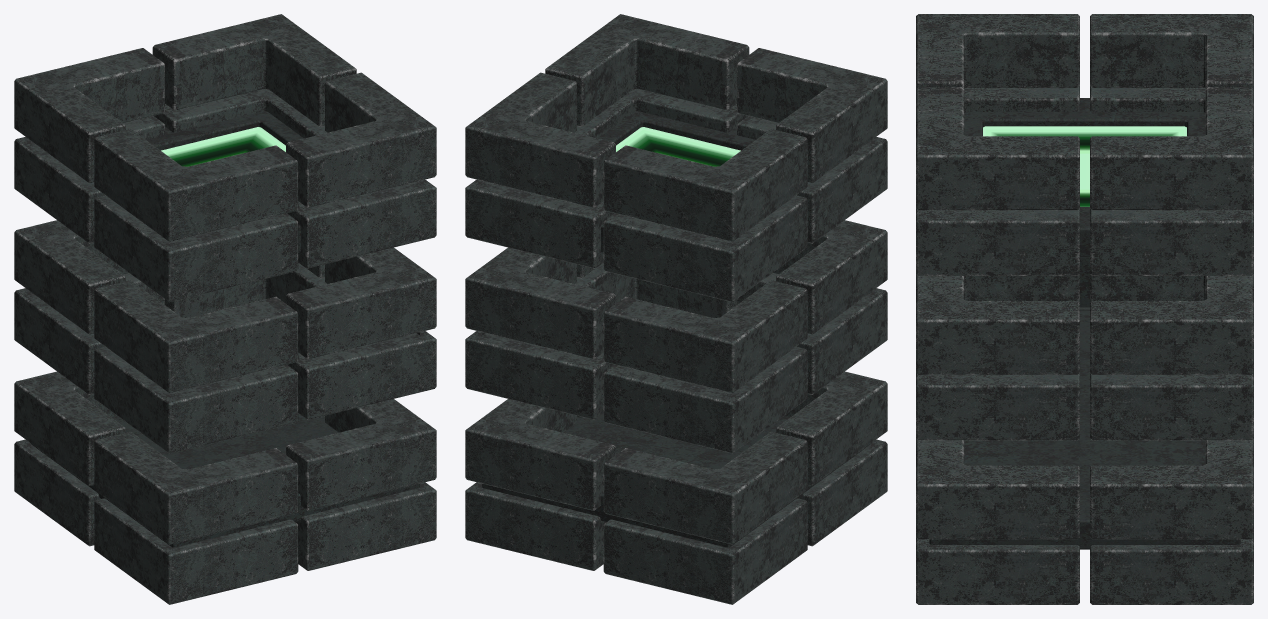
Rendered from ParticleTransmitter.fbx.
3 renders of one model, left to right at view 1: azimuth 30°, elevation 25°; view 2: azimuth 150°, elevation 25°; view 3: azimuth 270°, elevation 25°, orthographic. The views are drawn at different scales.
Parts seen in each view (by area): view 1: Frames.002, Core; view 2: Frames.002, Core; view 3: Frames.002, Core.
Part boxes in pixels (bbox=[...]): Frames.002: bbox=[14, 14, 436, 604]; Core: bbox=[31, 111, 419, 547]; Frames.002: bbox=[465, 14, 887, 604]; Core: bbox=[482, 111, 870, 547]; Frames.002: bbox=[916, 14, 1253, 604]; Core: bbox=[929, 98, 1240, 549].
Size of the model in its own units: 168 by 246 by 168.
Materials: 3 (2 with a texture image).
